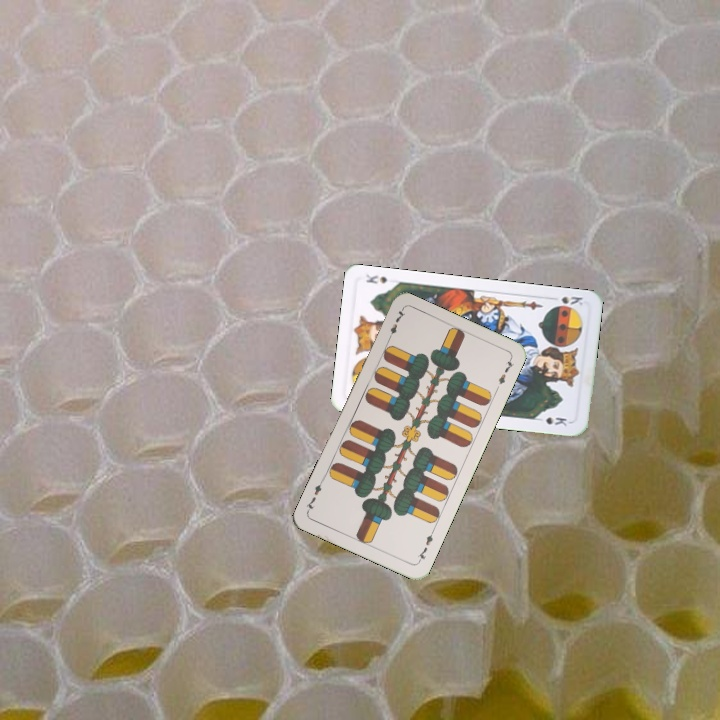E7: (383, 306, 408, 344), (413, 527, 437, 565)
SK: (557, 292, 585, 308)
